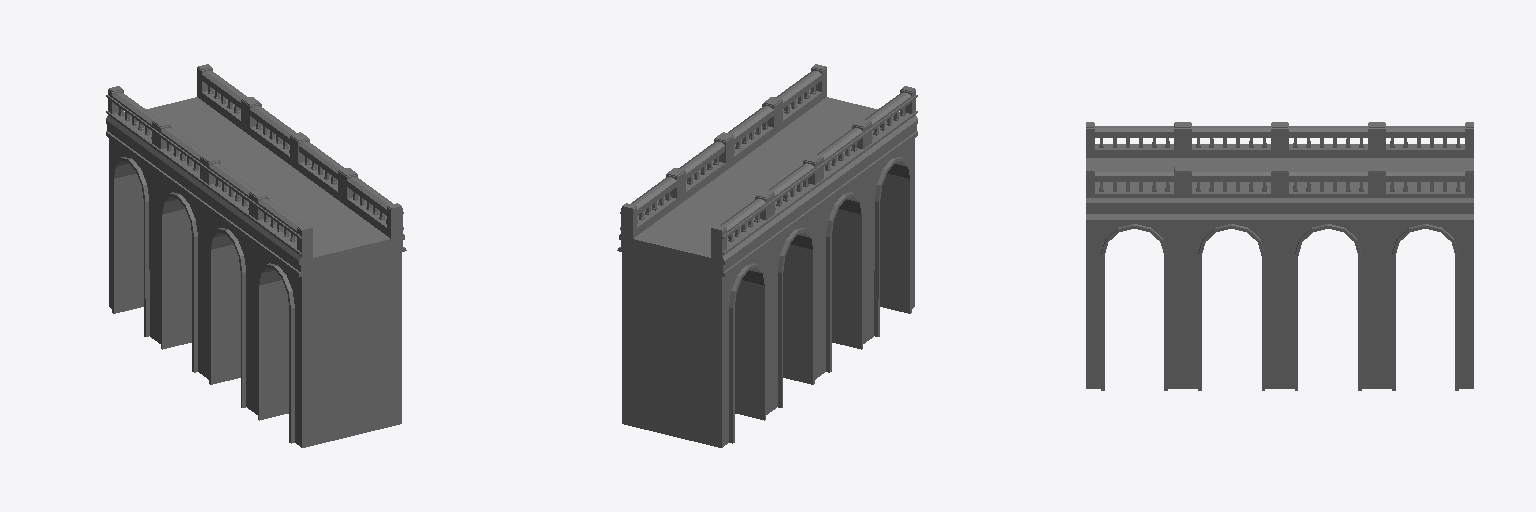
File: bridge.obj
The picture shows the model from 3 angles: view 1: azimuth 30°, elevation 25°; view 2: azimuth 150°, elevation 25°; view 3: azimuth 270°, elevation 25°; orthographic projection.
Visible parts, largest first — view 1: polySurface12; view 2: polySurface12; view 3: polySurface12.
Boxes of the visible parts, x1=… form: polySurface12: x1=106, y1=64, x2=406, y2=447; polySurface12: x1=617, y1=64, x2=917, y2=447; polySurface12: x1=1086, y1=122, x2=1473, y2=390.
Size of the model in its own units: 28.55 by 54.6 by 88.